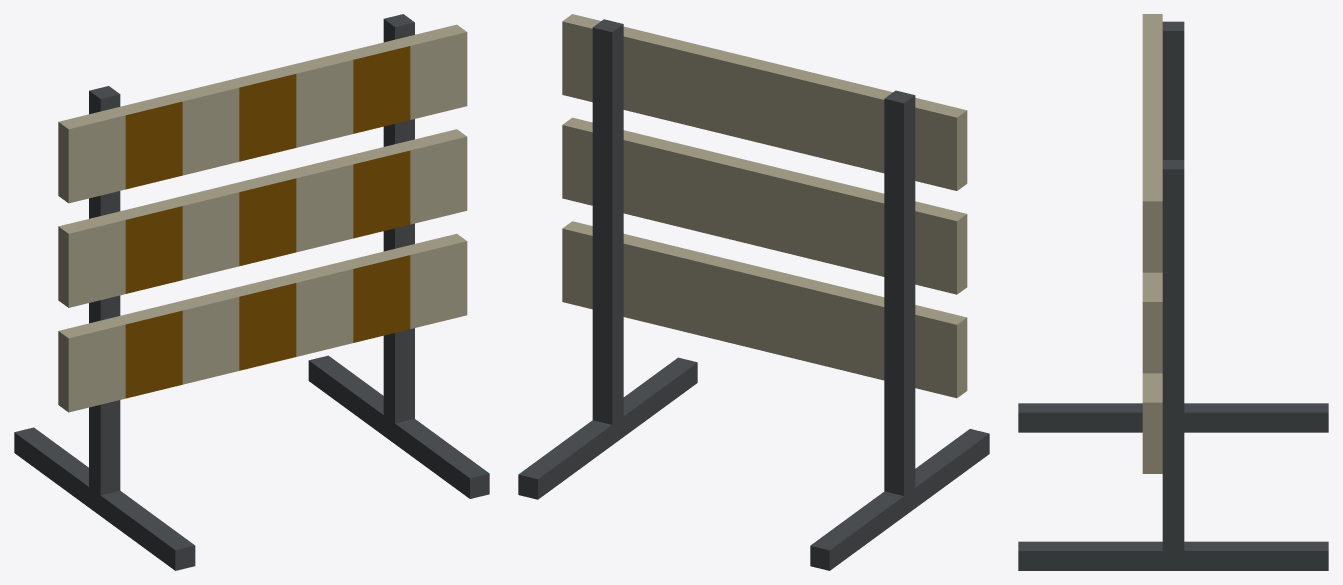
File: PS_TrafficFence.fbx
3 views of the same model, side by side, from view 1: azimuth 30°, elevation 25°; view 2: azimuth 150°, elevation 25°; view 3: azimuth 270°, elevation 25° (orthographic). The views are drawn at different scales.
Parts seen in each view (by area): view 1: PS_TrafficFence; view 2: PS_TrafficFence; view 3: PS_TrafficFence.
Boxes of the visible parts, x1,y1,x2,y2 form: PS_TrafficFence: (14,14,489,570); PS_TrafficFence: (518,14,989,570); PS_TrafficFence: (1018,14,1328,570).
Size of the model in its own units: 1 by 1 by 0.701.
